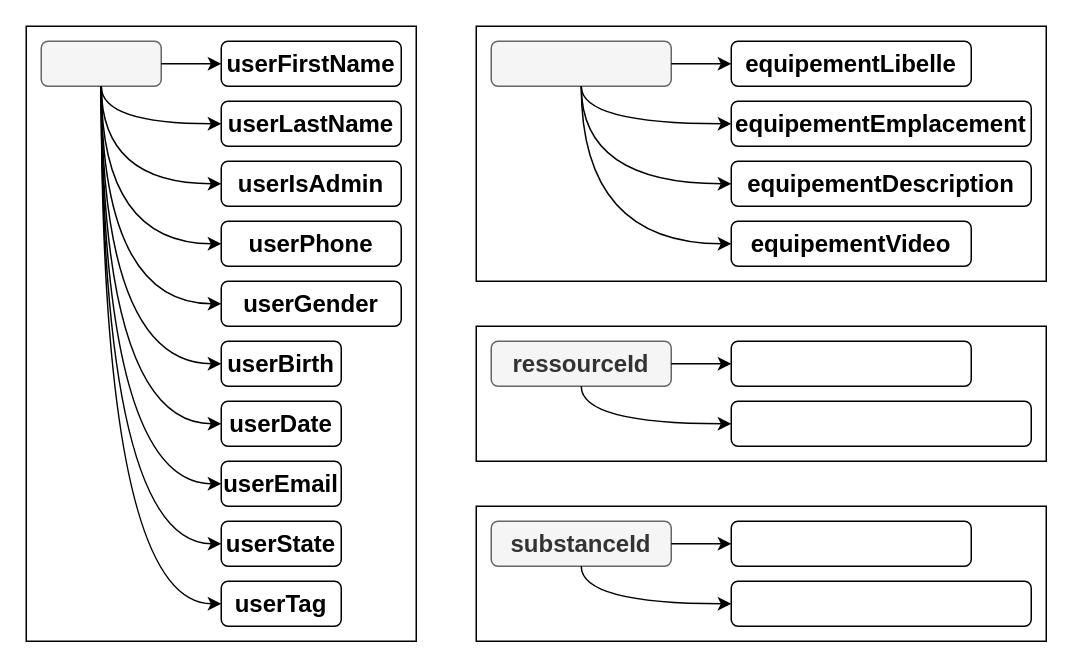
The diagram is 1073 pixels wide and 668 high, and some of its shapes have lost their labels. Here are the shapes that lost their labels. From the top down, the box of each, then its label:
(40, 40, 161, 86): userId
(490, 40, 671, 86): equipementId
(730, 340, 971, 386): ressourceLibelle
(730, 400, 1031, 446): ressourceDescription
(730, 520, 971, 566): substanceLibelle
(730, 580, 1031, 626): substanceDescription
